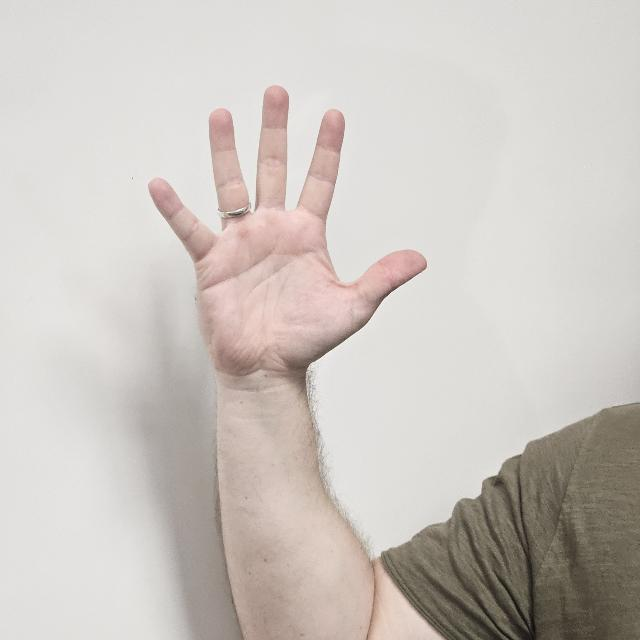X: (144, 85, 428, 415)
